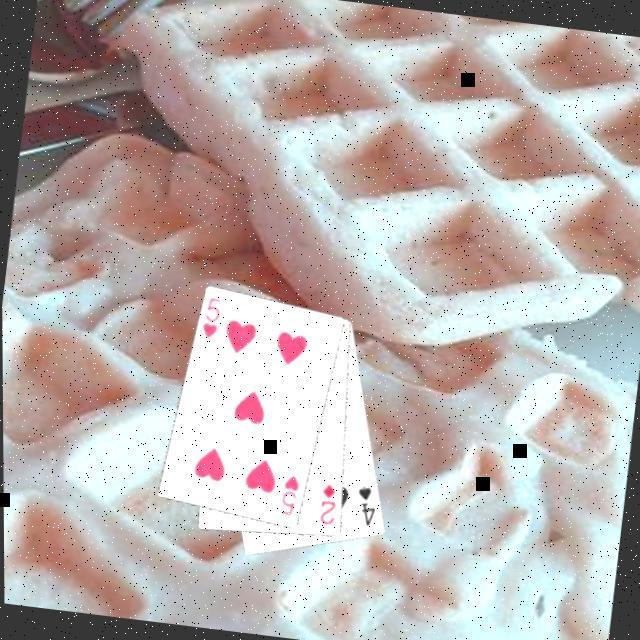2D: (313, 478, 340, 528)
4S: (350, 481, 380, 529)
5H: (196, 293, 223, 341), (275, 470, 301, 518)
